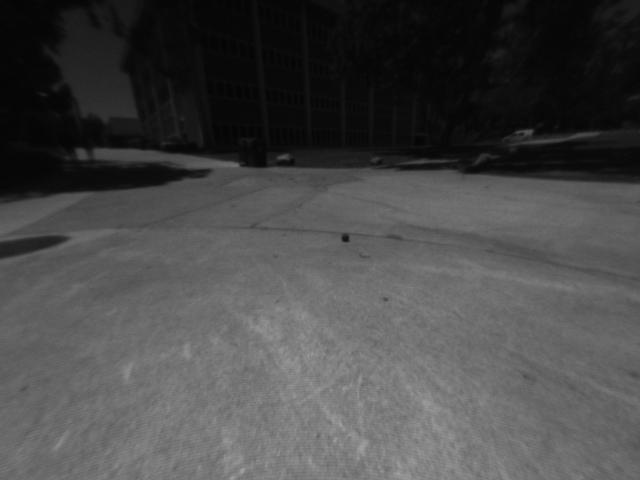dogtoy: (337, 228, 355, 246)
